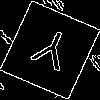Y: (24, 25, 76, 81)
